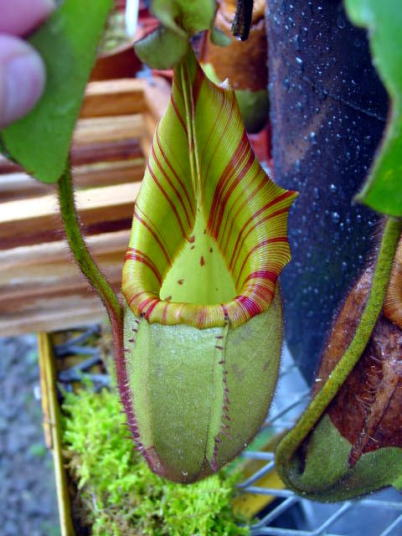veitchii: (85, 9, 321, 493)
